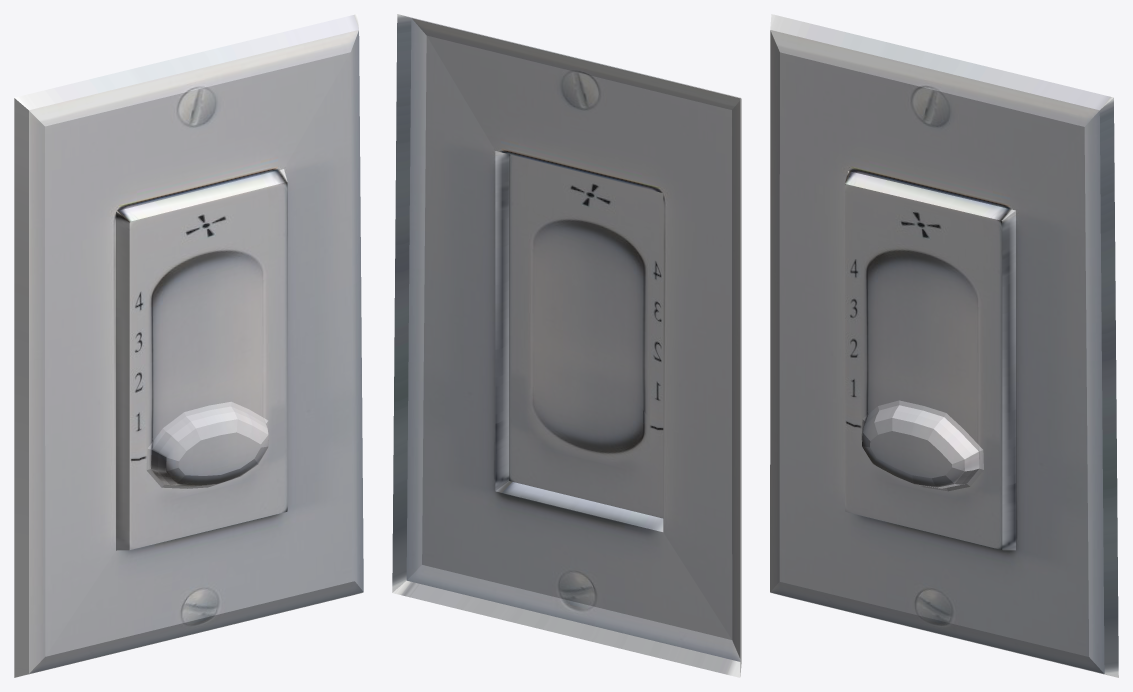
File: switch.fbx
The picture shows the model from 3 angles, left to right: view 1: azimuth 30°, elevation 25°; view 2: azimuth 150°, elevation 25°; view 3: azimuth 330°, elevation 25°; orthographic projection.
Parts seen in each view (by area): view 1: Drexler+Ceiling+Fan+Wall+Control, Drexler+Ceiling+Fan+Wall+Control.001; view 2: Drexler+Ceiling+Fan+Wall+Control, Drexler+Ceiling+Fan+Wall+Control.001; view 3: Drexler+Ceiling+Fan+Wall+Control, Drexler+Ceiling+Fan+Wall+Control.001.
Part boxes in pixels (<box>): Drexler+Ceiling+Fan+Wall+Control: <box>14,14,363,677</box>; Drexler+Ceiling+Fan+Wall+Control.001: <box>146,401,269,488</box>; Drexler+Ceiling+Fan+Wall+Control: <box>392,14,741,677</box>; Drexler+Ceiling+Fan+Wall+Control.001: <box>527,371,649,457</box>; Drexler+Ceiling+Fan+Wall+Control: <box>770,14,1118,677</box>; Drexler+Ceiling+Fan+Wall+Control.001: <box>861,400,983,491</box>.
Size of the model in its own units: 3.51 by 5.59 by 0.5733.
